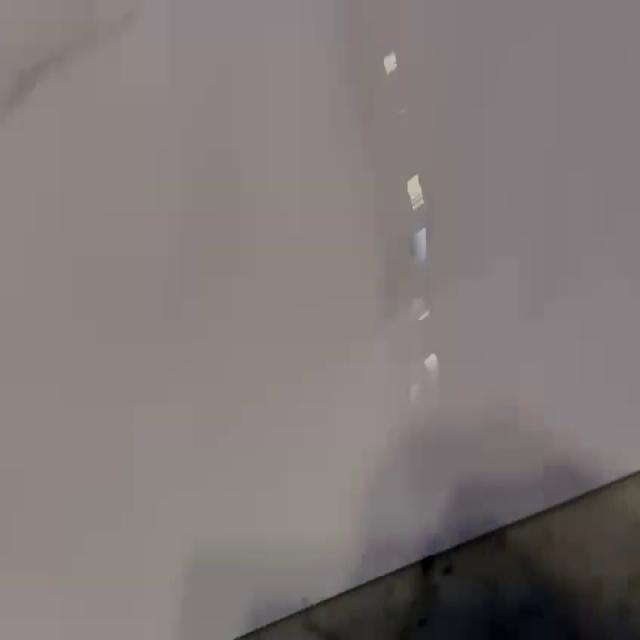road: (0, 1, 640, 638)
